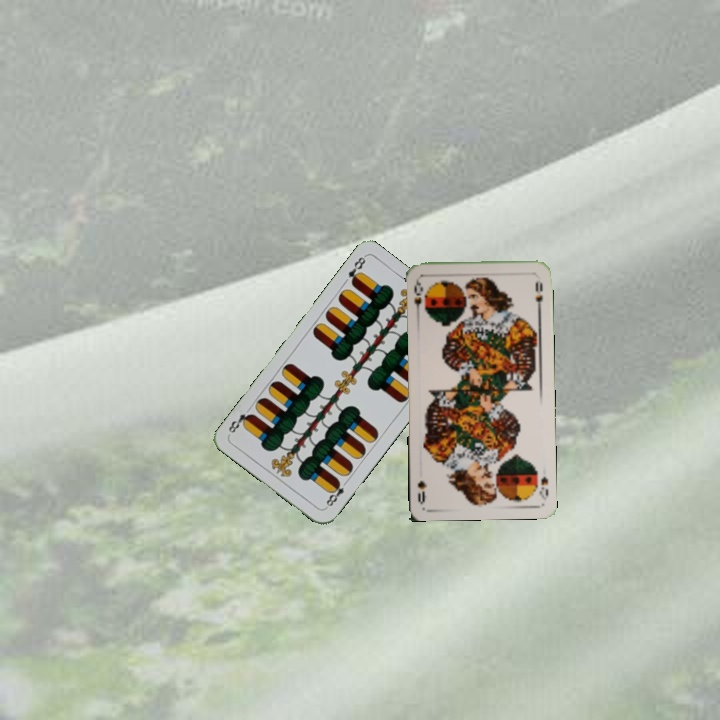E8: (321, 476, 351, 511), (344, 252, 368, 288)
SO: (410, 276, 426, 316), (535, 472, 551, 502)
